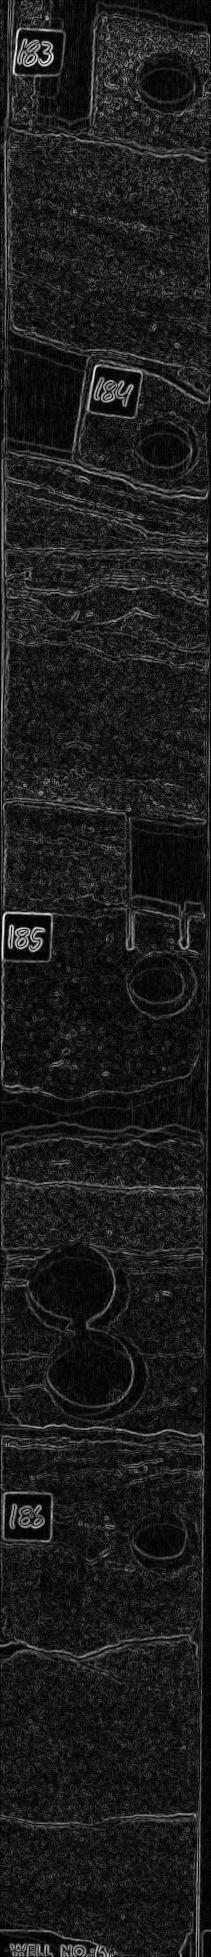hplug: (122, 1501, 206, 1585), (126, 42, 211, 120), (124, 947, 202, 1023), (129, 409, 204, 487)
scal: (24, 1233, 134, 1330), (42, 1330, 152, 1425)
vplug: (10, 321, 96, 476), (27, 1, 112, 145), (120, 798, 196, 944)
